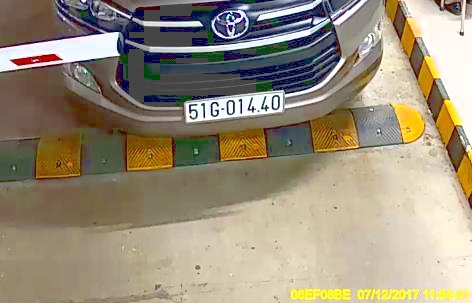plate: (184, 89, 284, 124)
